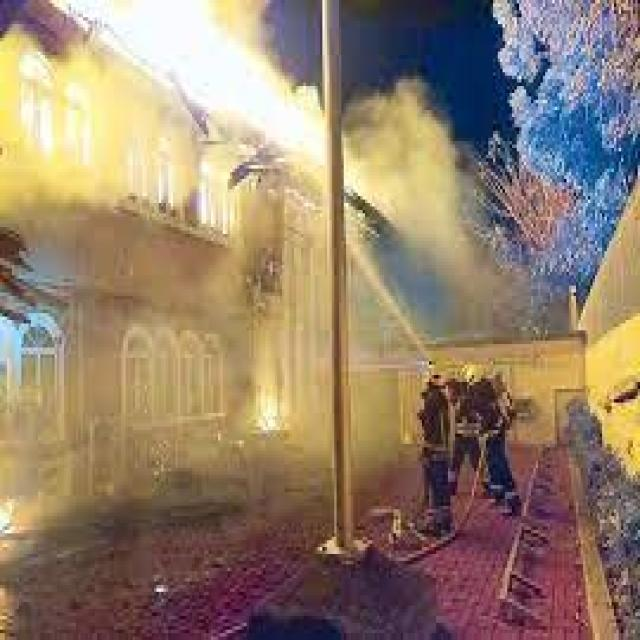Smoke: (125, 0, 484, 260)
